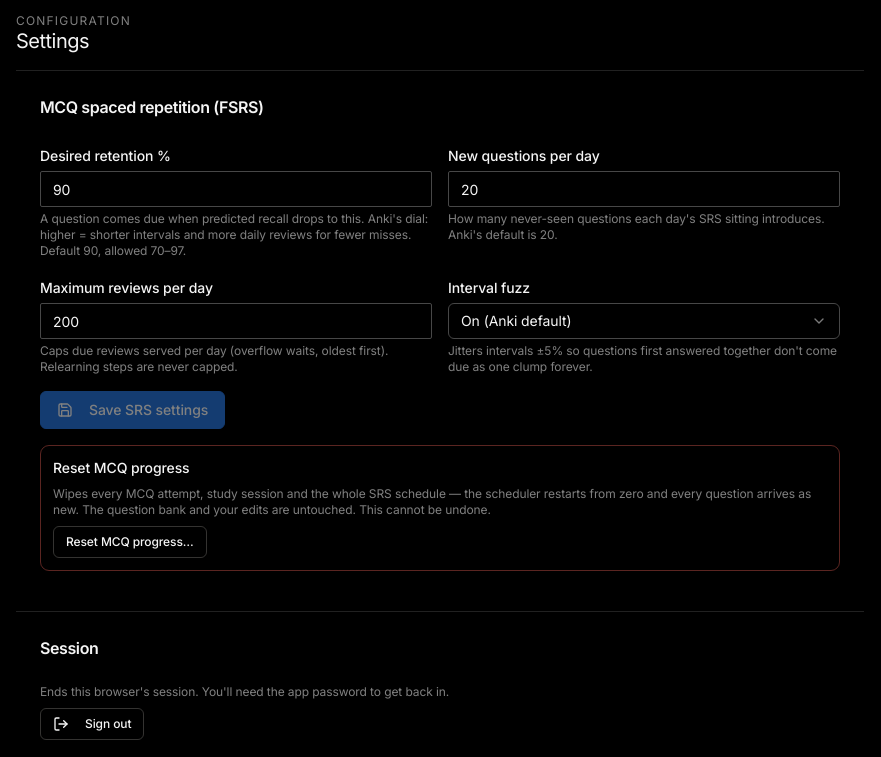
Test case: Settings — reset MCQ progress › arms on first click, wipes only on confirm — with confirm=YES on the wire
The image size is (881, 757).
Click the button with test id "button-reset-mcq": (130, 542) [53,526,207,558]
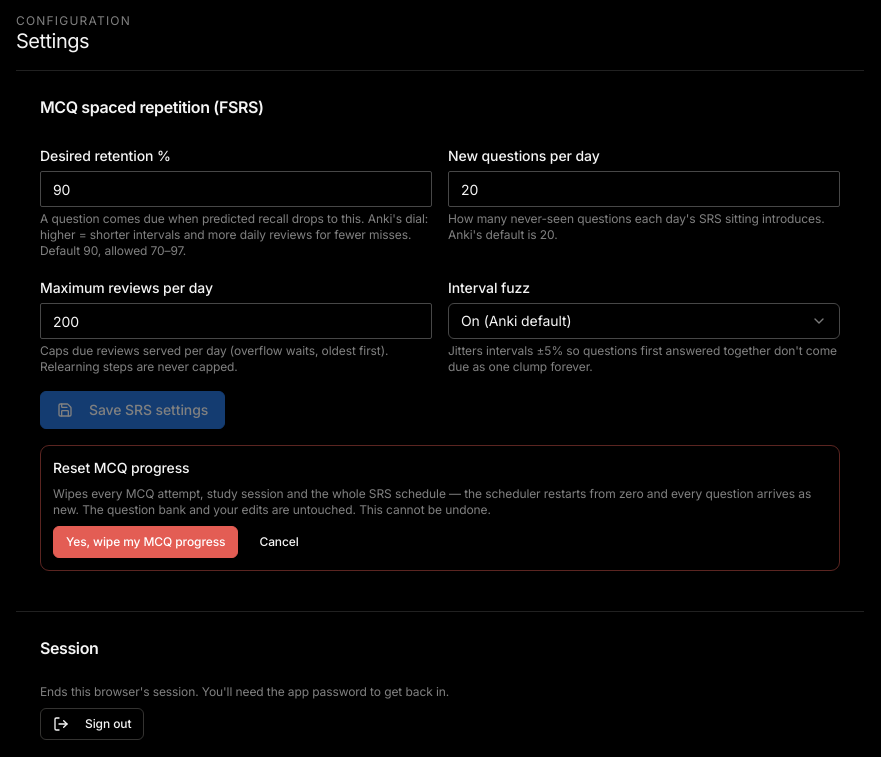
Click the button with test id "button-reset-mcq-confirm": (146, 542) [53,526,238,558]
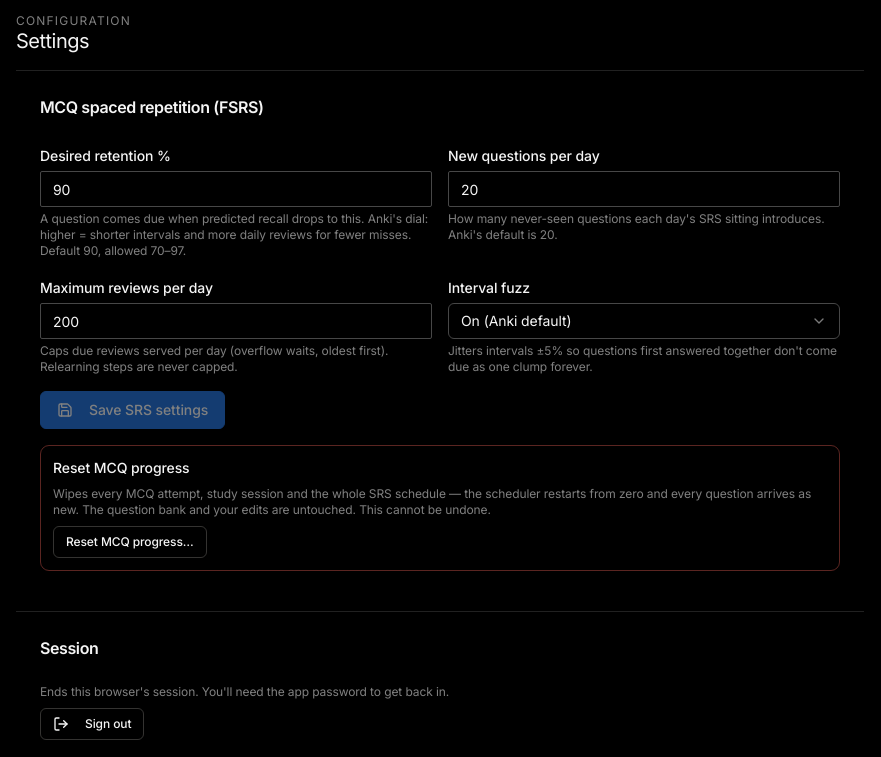
Now the button with test id "button-reset-mcq" is shown, box [53,526,207,558]
